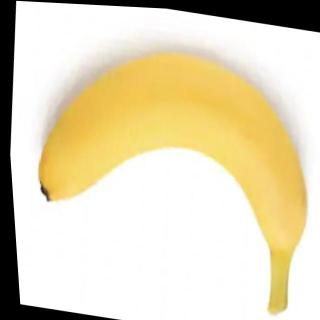banana: (21, 26, 320, 253)
